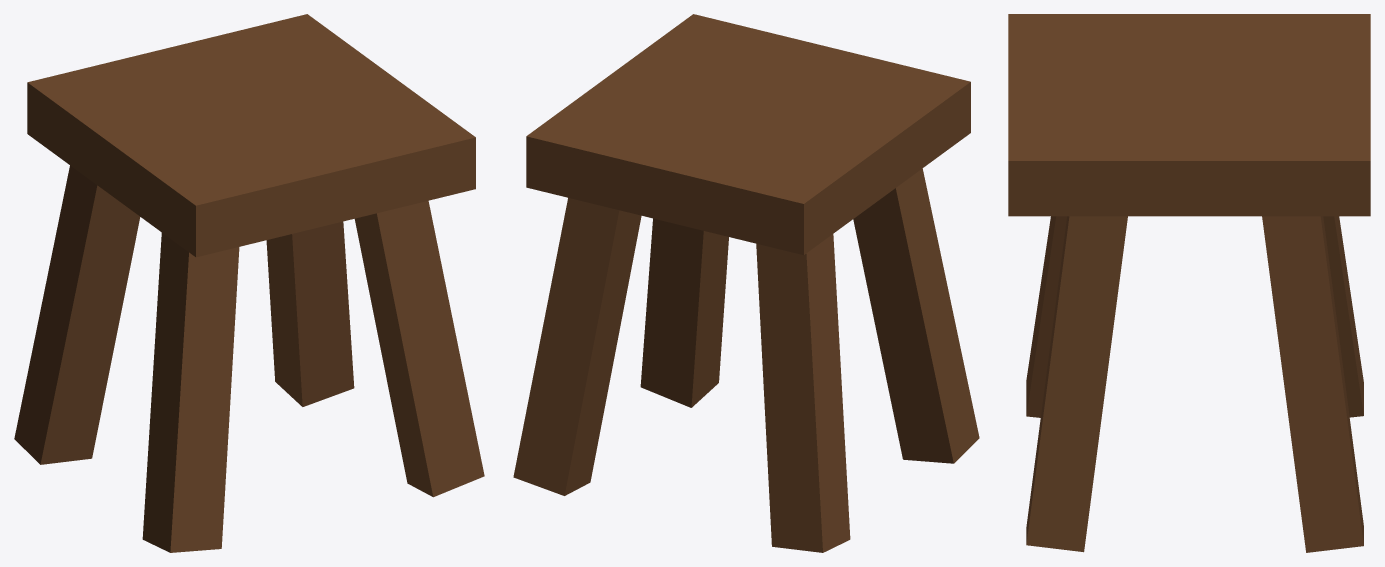
Rendered from Chair_03.gltf.
The picture shows the model from 3 angles, left to right: view 1: azimuth 30°, elevation 25°; view 2: azimuth 150°, elevation 25°; view 3: azimuth 270°, elevation 25°; orthographic projection. The views are drawn at different scales.
Visible parts, largest first — view 1: Chair_03; view 2: Chair_03; view 3: Chair_03.
Boxes of the visible parts, x1,y1,x2,y2 form: Chair_03: (14,14,484,552); Chair_03: (513,14,979,552); Chair_03: (1008,14,1370,552).
Bounding box in the file's own units: 0.7352 × 0.8083 × 0.6792.
